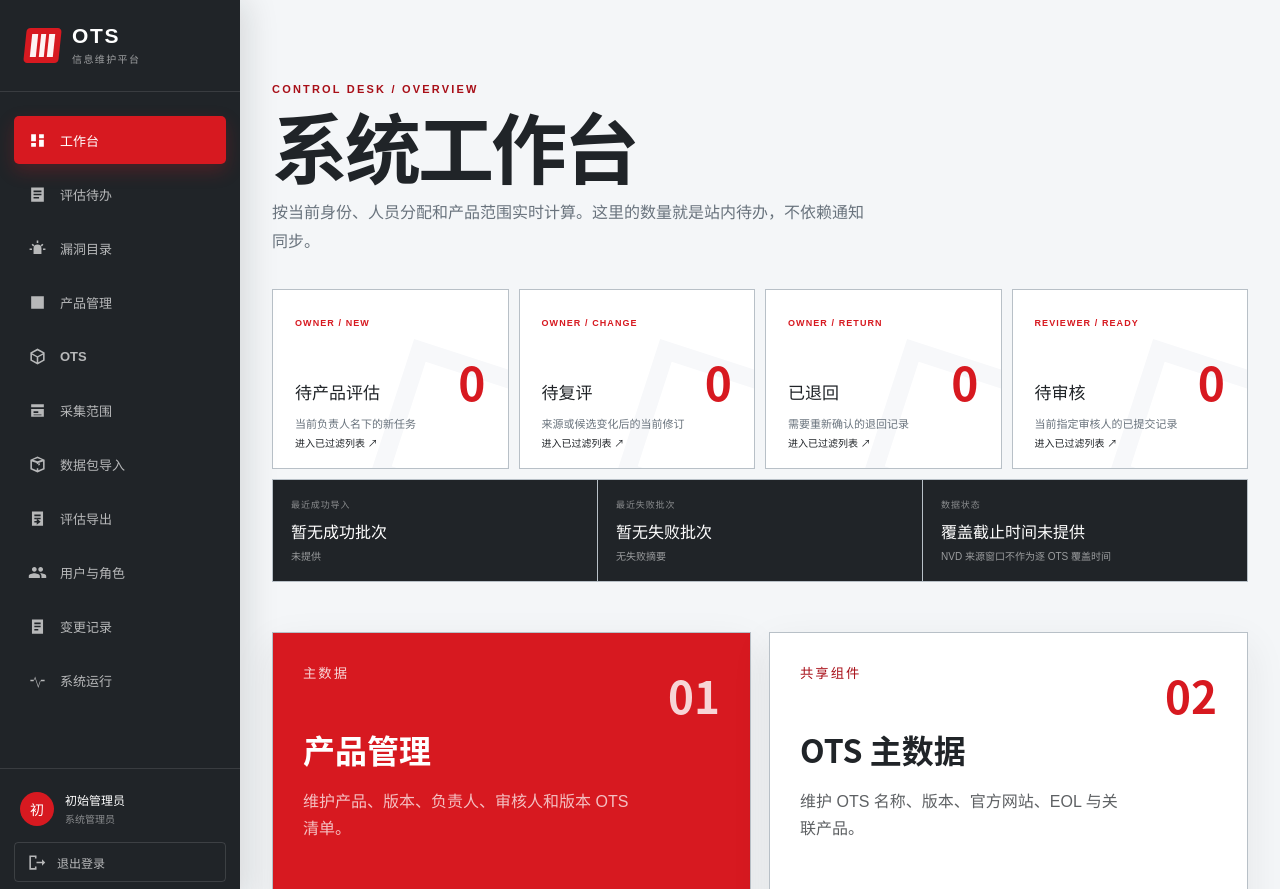
Test case: App › keeps the current identity and shows feedback when logout fails
This screenshot has width=1280, height=889.
Click the button with aria-label "退出登录" at (120, 862), box [14,842,226,882]
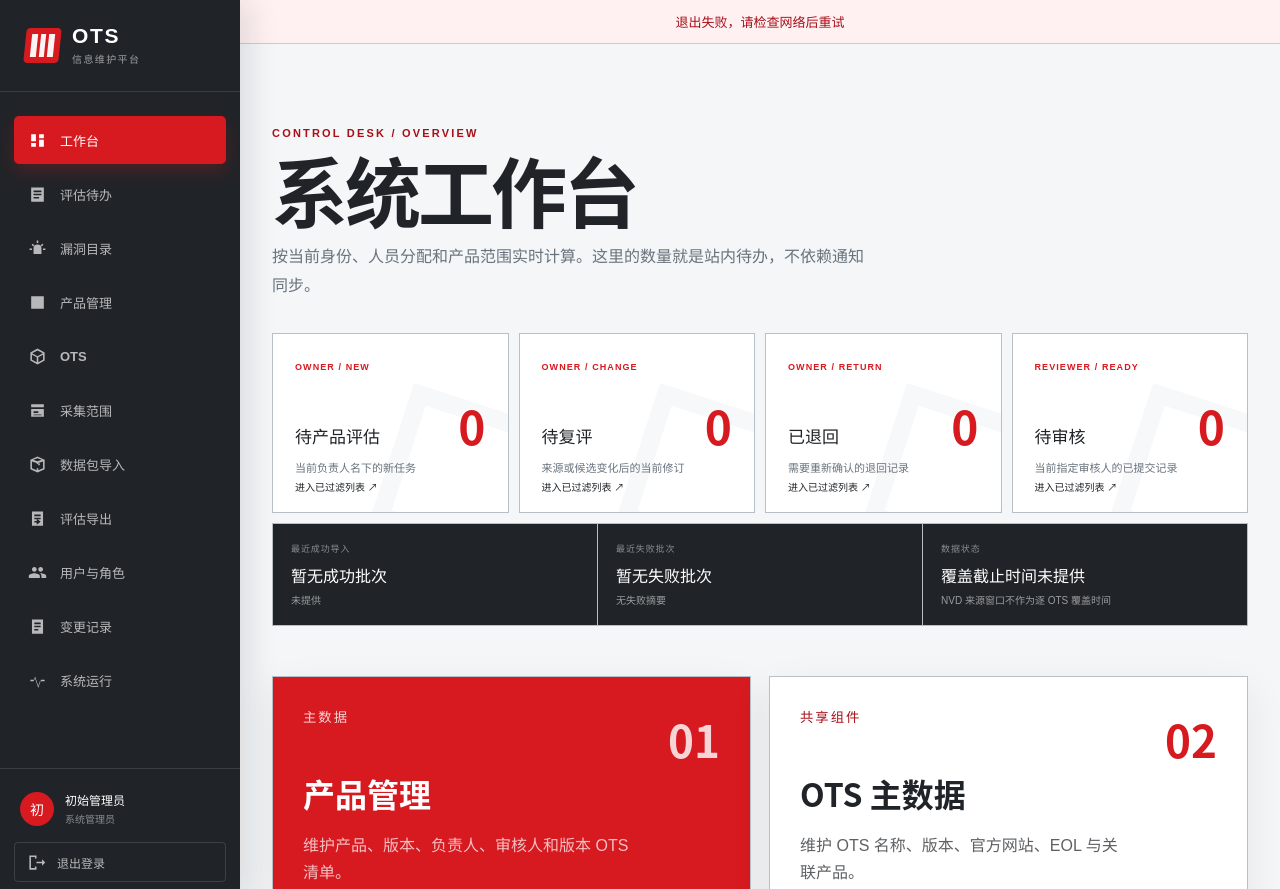
Now the text "退出失败，请检查网络后重试" is shown, box [240,0,1279,44]
